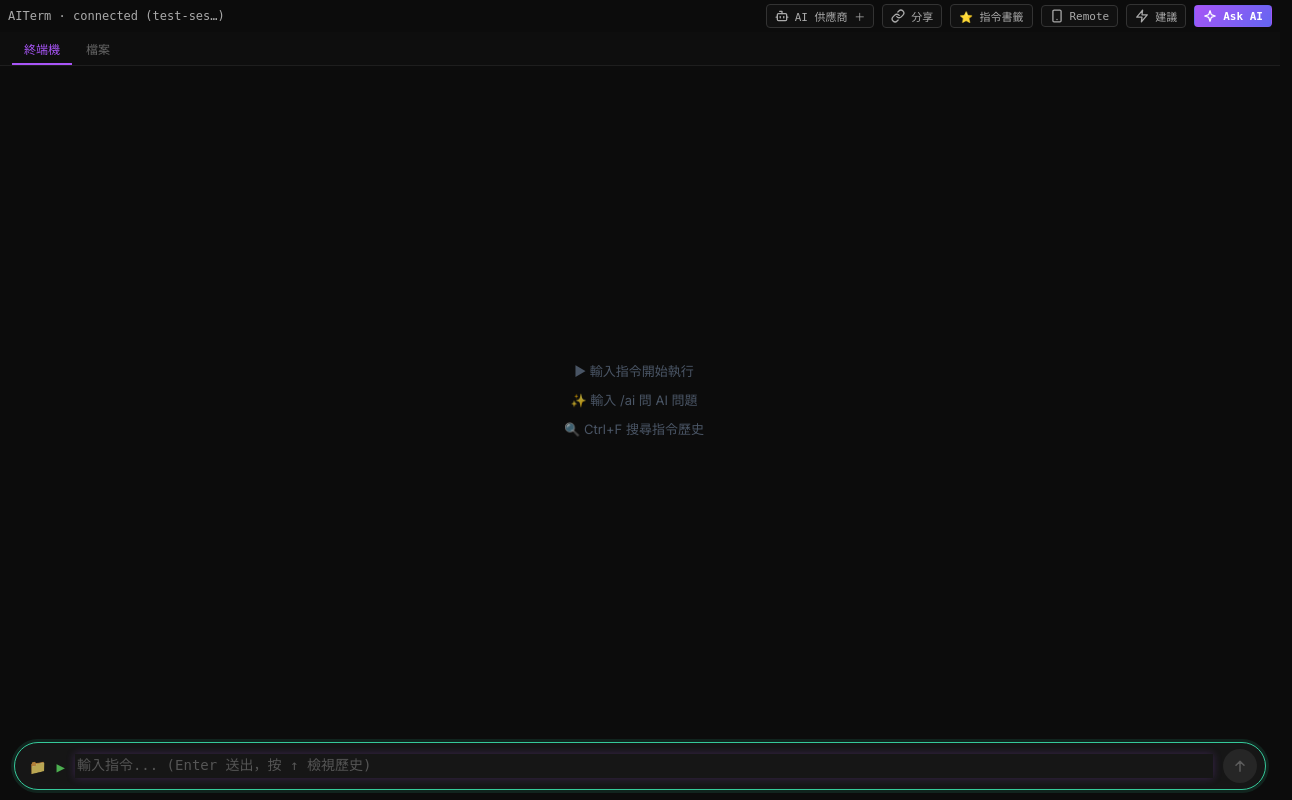
建議側欄與終端機並排 › Ask AI 面板仍然是終端機主欄裡的浮層，不會跑進側欄
Click the button with class "aiterm-sugg-toggle" at (1156, 16), box [1126,4,1186,28]
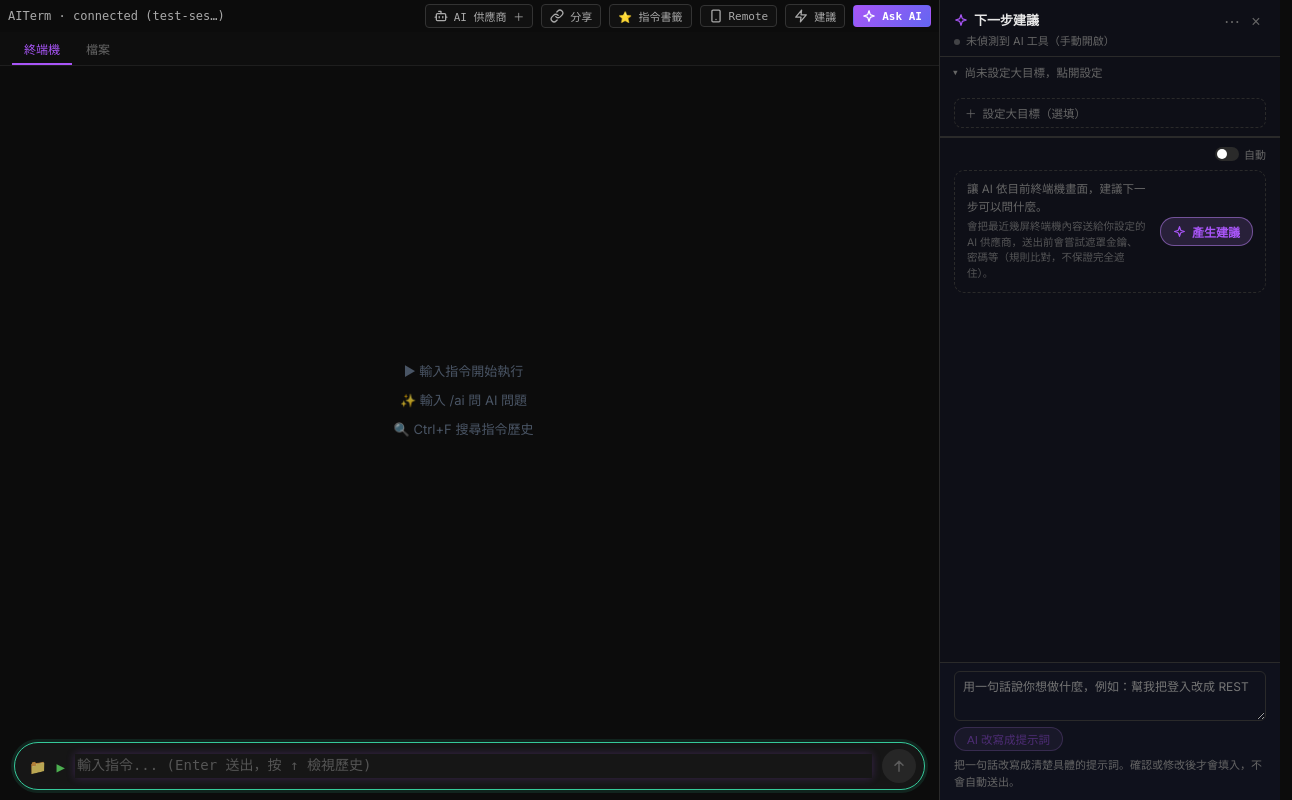
Now the element with class "aiterm-sugg-sidebar" is shown, box [940,0,1280,799]
